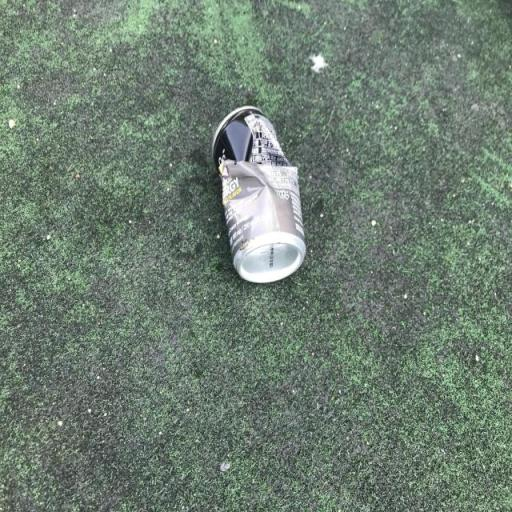metal: (194, 72, 328, 338)
